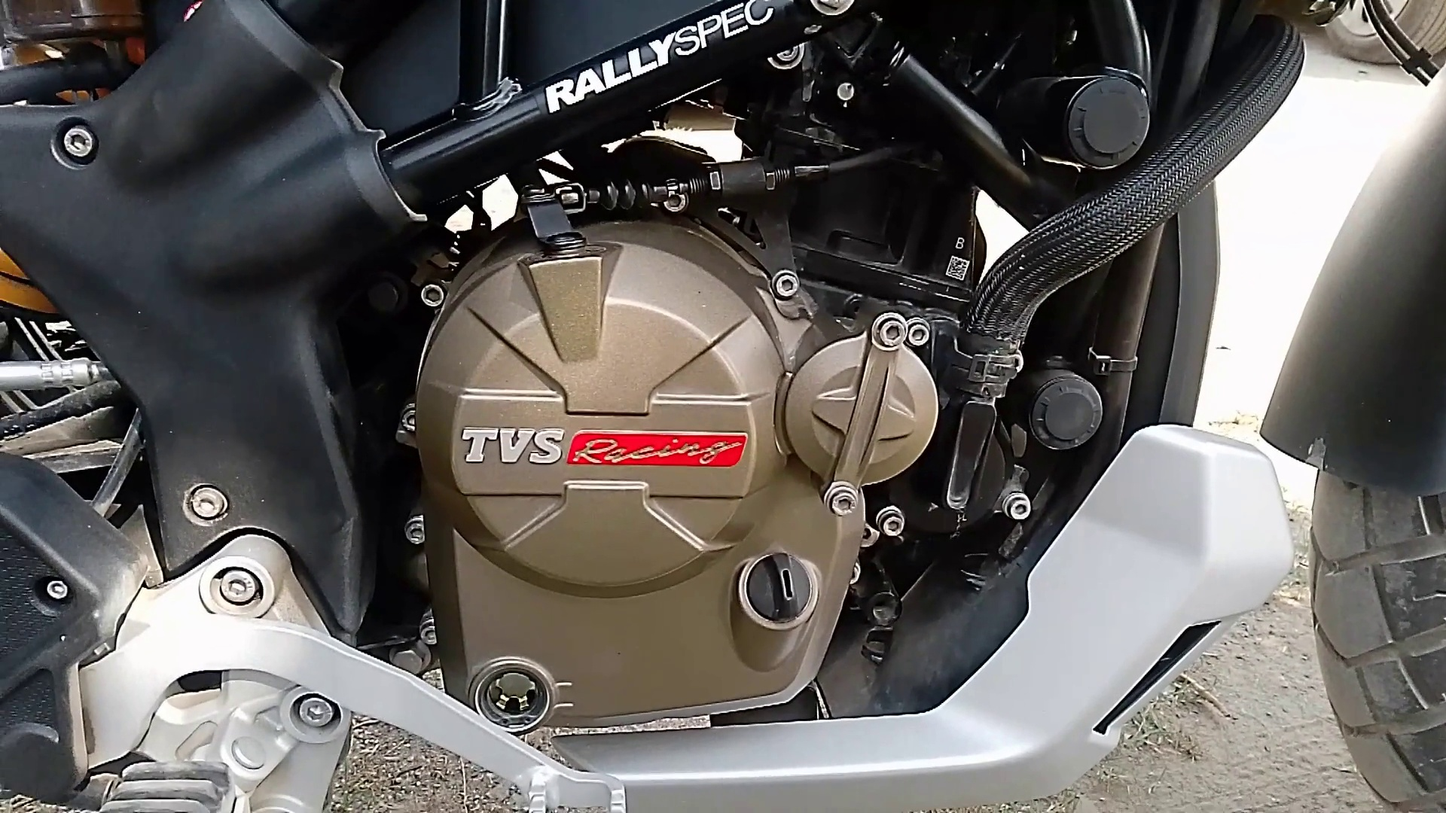bike-engine: (413, 196, 941, 736)
bike-engine-level: (466, 651, 571, 738)
bike-oil-cap: (732, 544, 823, 671)
